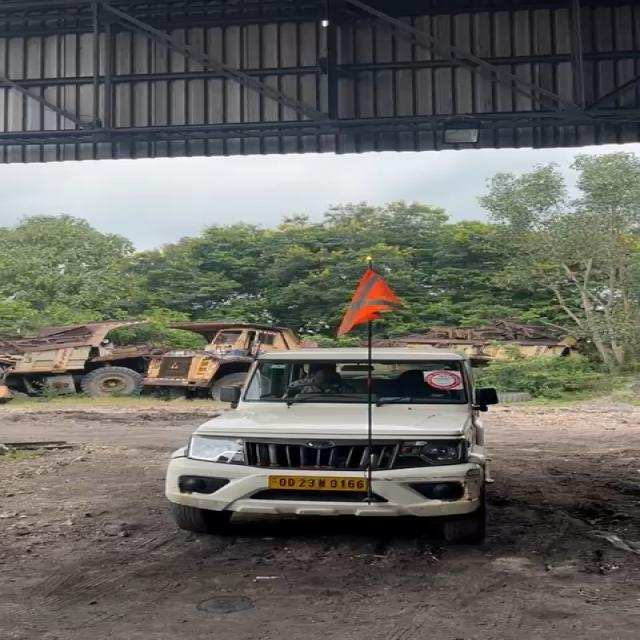light_vehicle: (151, 343, 493, 544)
